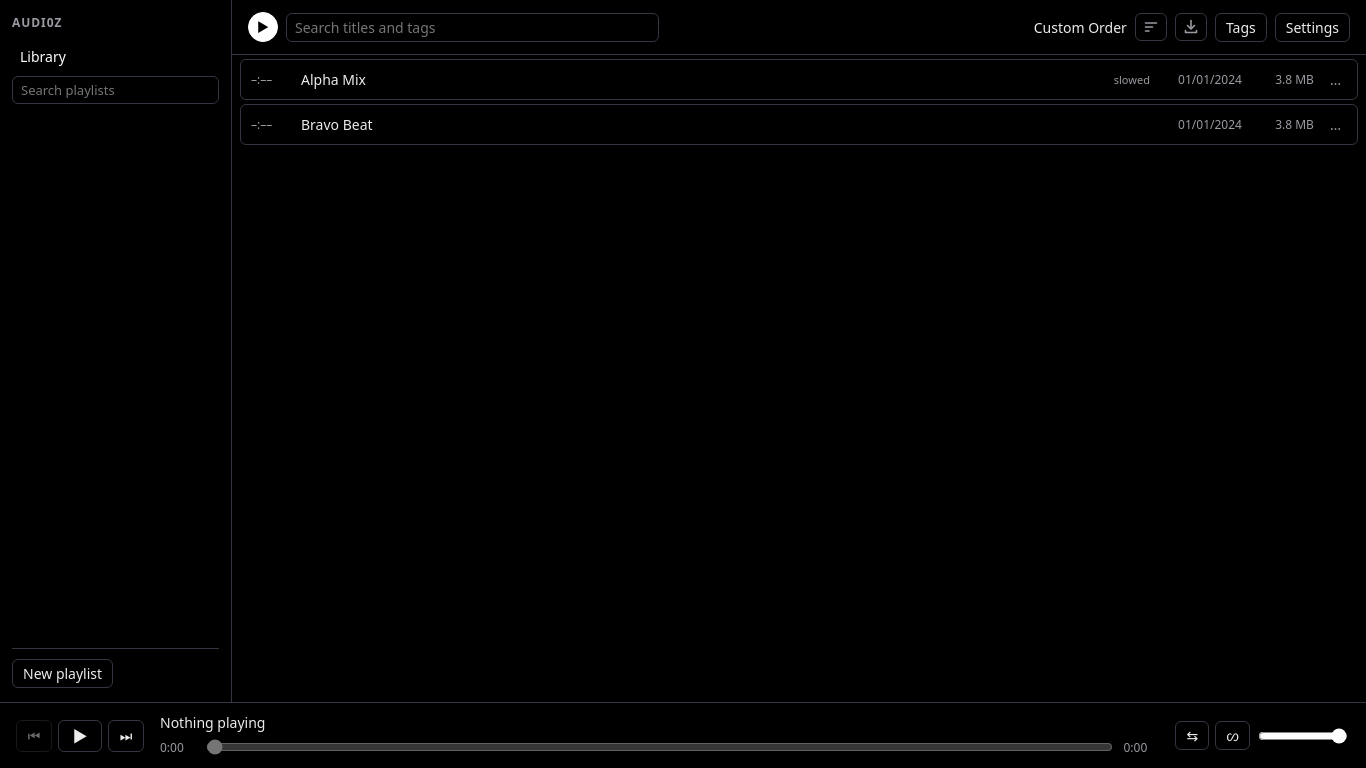
it: EditSongDialog › has nothing to save from an empty title
Click the button named "Options for Alpha Mix" at {"x": 1335, "y": 80}, box [1324, 71, 1347, 89]
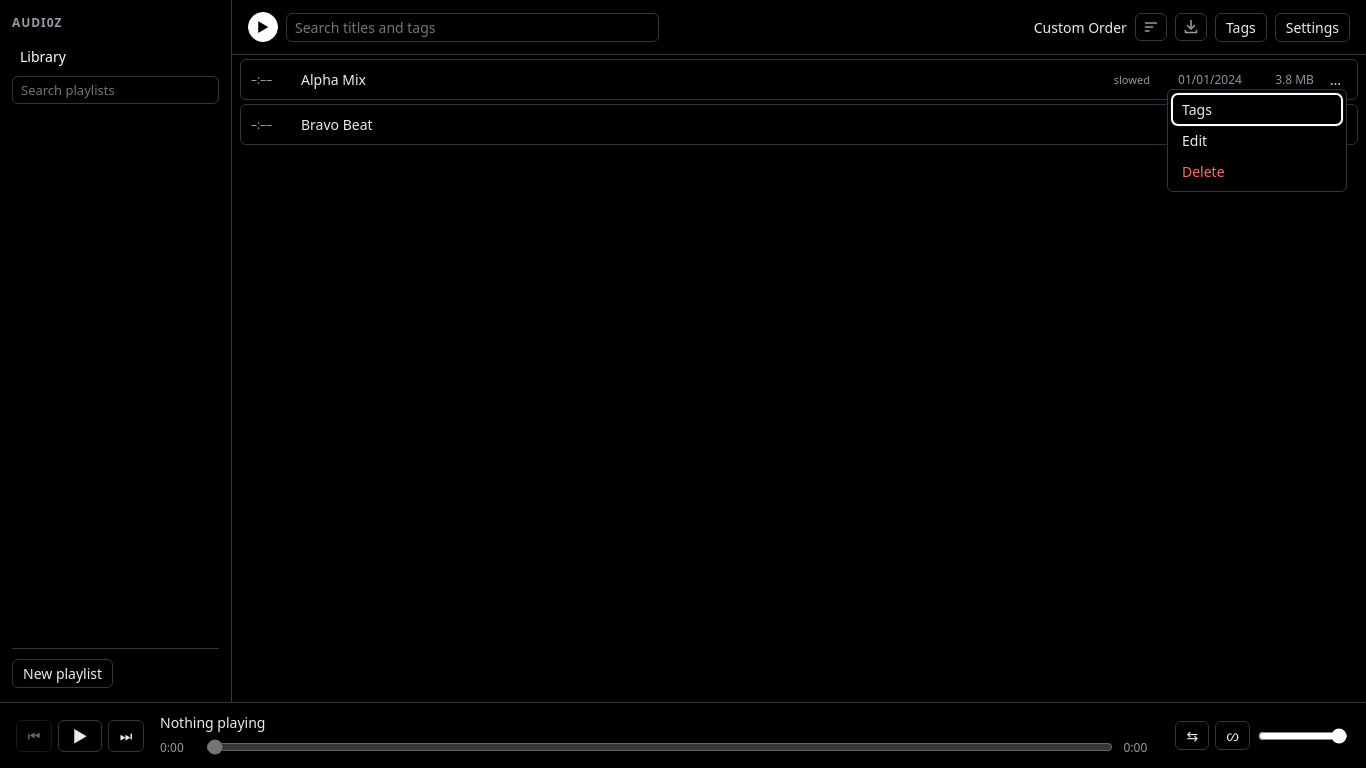
Click the menu item "Edit" at {"x": 1257, "y": 140}, box [1172, 125, 1342, 156]
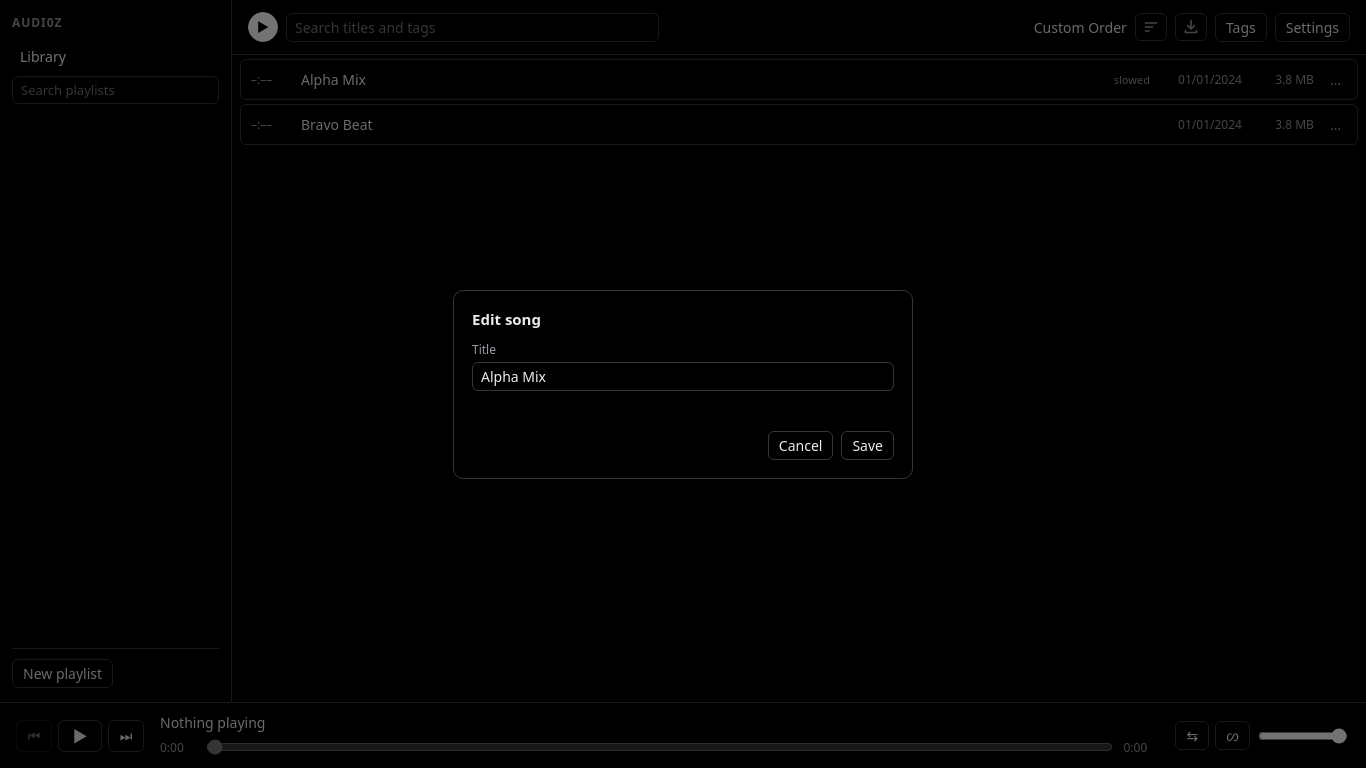
Clear the field labelled "Title" at {"x": 683, "y": 376}, box [472, 362, 894, 390]
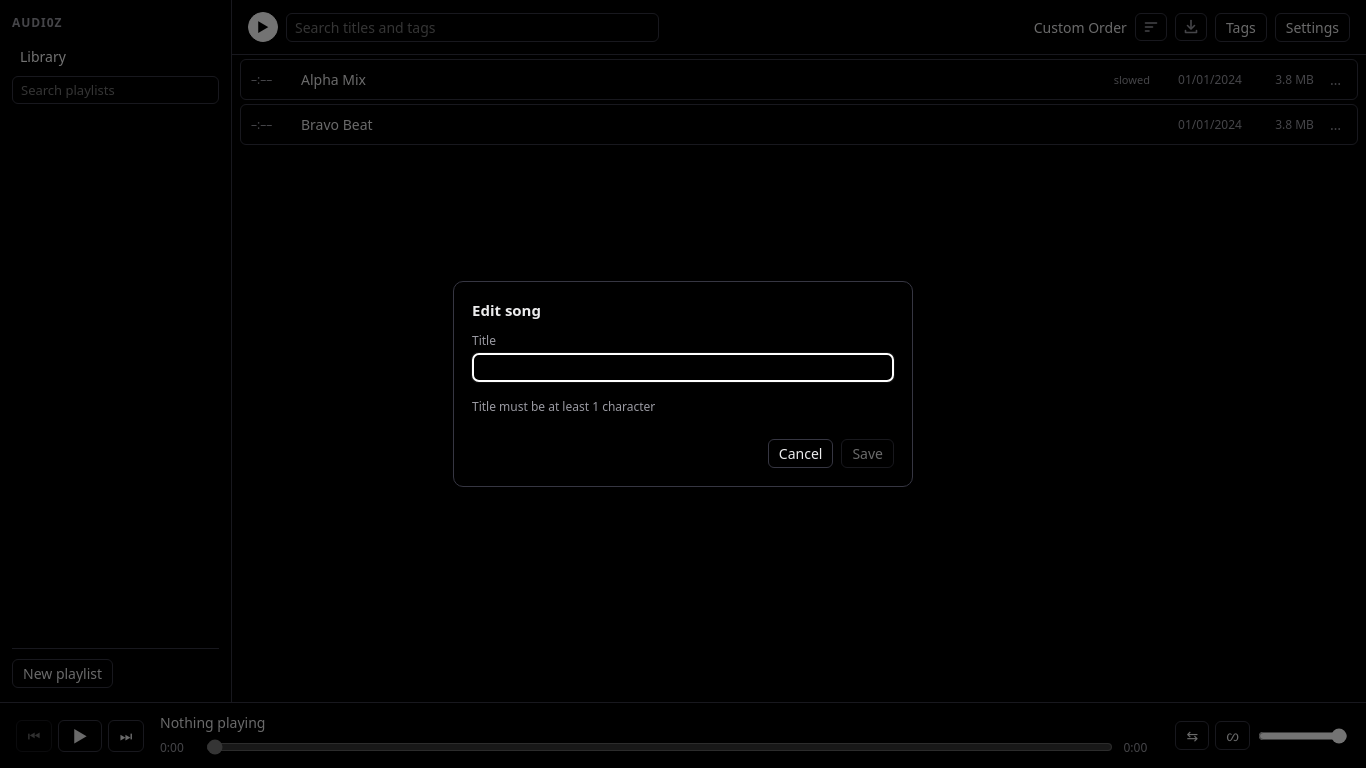
Check: the button "Save" is disabled, box [841, 439, 894, 468]
